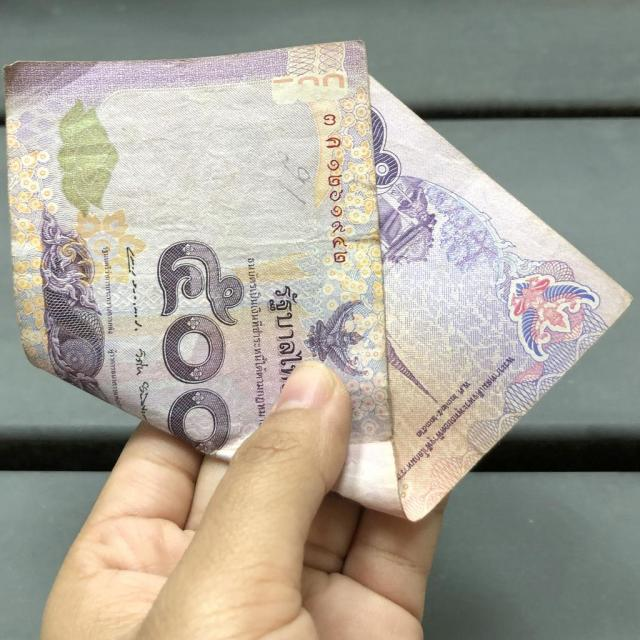THAI500: (5, 41, 630, 520)
